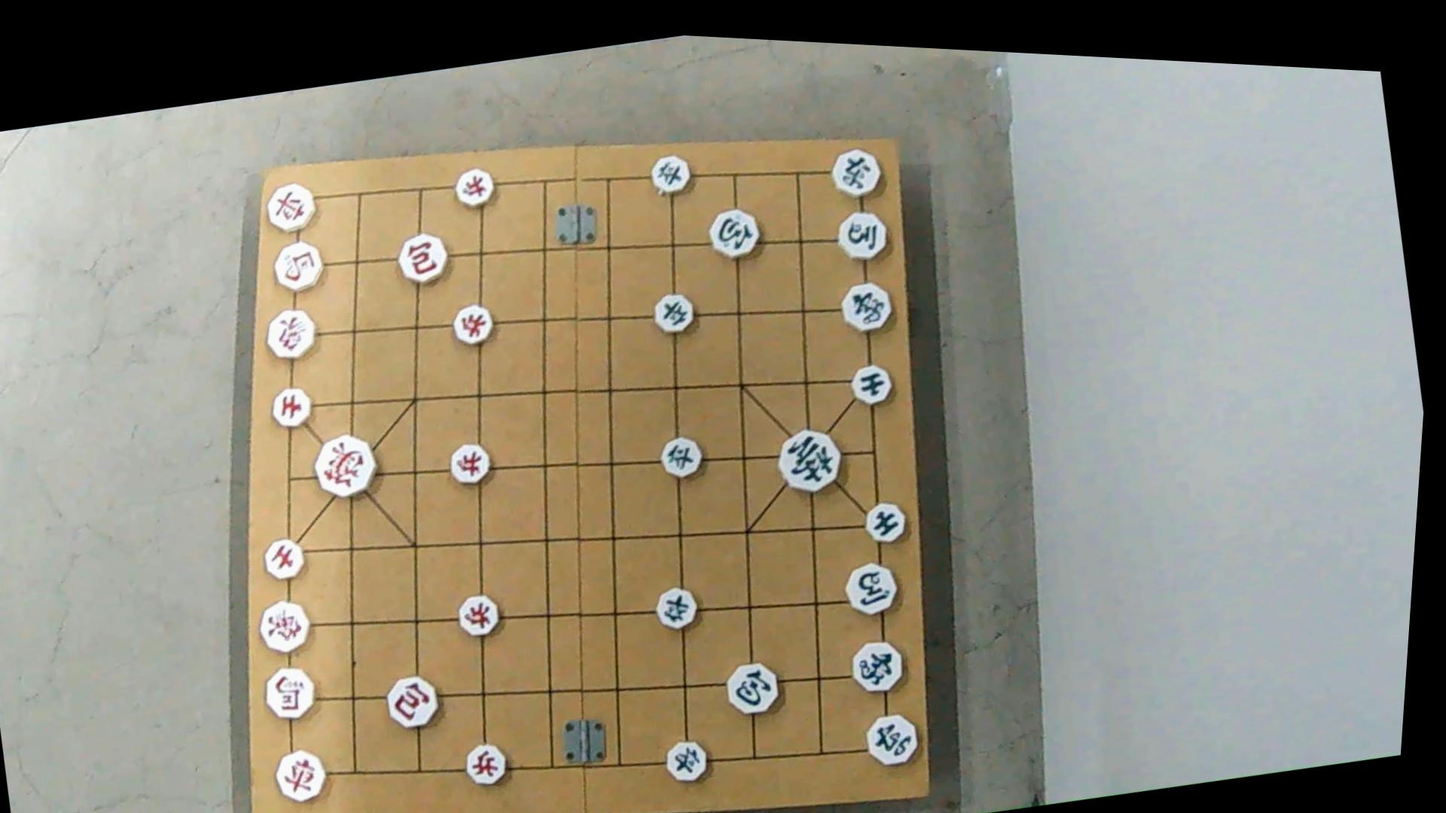cha_green: (860, 705, 927, 772), (828, 145, 891, 201)
cha_red: (272, 748, 334, 805), (261, 178, 323, 234)
jol_green: (656, 436, 710, 483), (656, 587, 708, 635), (662, 740, 715, 787), (648, 293, 699, 338), (647, 154, 698, 199)
jol_red: (451, 163, 502, 212), (454, 593, 506, 641), (460, 741, 513, 788), (444, 444, 496, 489), (447, 306, 499, 350)
ma_green: (839, 558, 905, 619), (834, 209, 897, 265)
ma_red: (259, 662, 322, 724), (269, 239, 331, 297)
po_green: (721, 656, 788, 720), (703, 207, 764, 261)
po_red: (382, 675, 444, 734), (395, 233, 456, 287)
sa_green: (859, 496, 913, 548), (848, 364, 900, 407)
sa_red: (266, 380, 316, 432), (260, 537, 312, 583)
sang_green: (846, 635, 910, 702), (834, 275, 899, 340)
sang_red: (253, 599, 319, 660), (258, 305, 322, 361)
wang_green: (773, 428, 850, 498)
wang_red: (310, 431, 389, 501)
